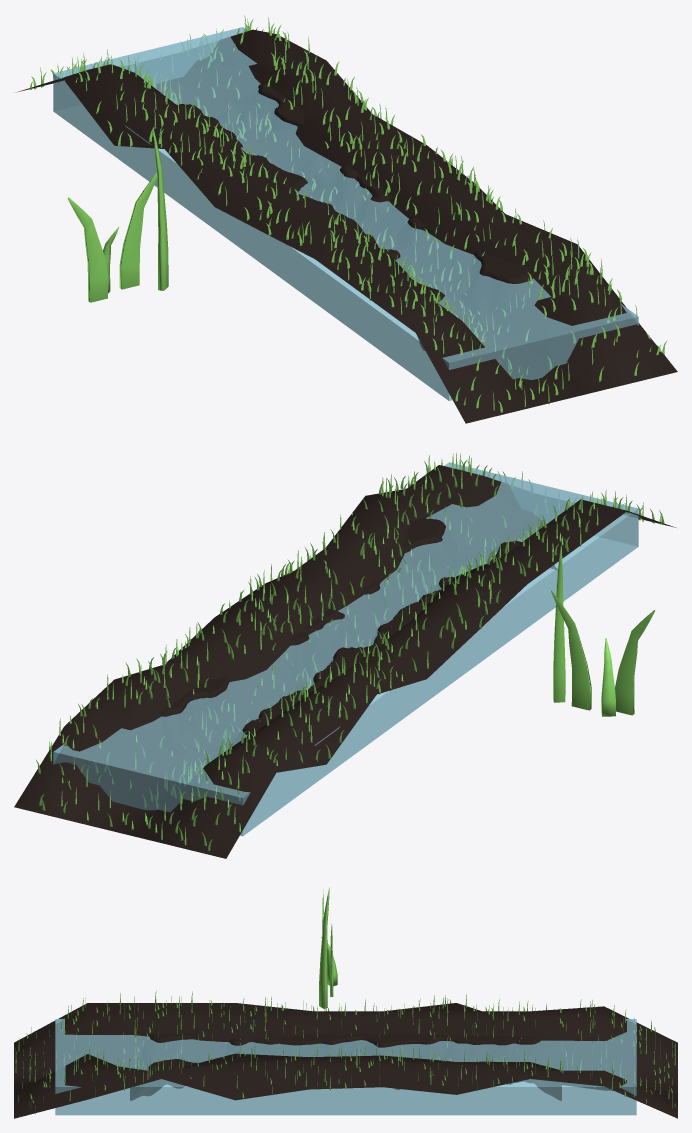
Rendered from river.glb.
3 views of the same model, one above another, from view 1: azimuth 30°, elevation 25°; view 2: azimuth 150°, elevation 25°; view 3: azimuth 270°, elevation 25° (orthographic). The views are drawn at different scales.
Visible parts, largest first — view 1: Landscape.004, Plane, Landscape.002, Cube, Cube.002, Cube.003; view 2: Landscape.004, Plane, Landscape.002, Cube, Cube.002, Cube.003, Cube.001; view 3: Landscape.004, Plane, Landscape.002, Cube.003.
Part boxes in pixels (bbox=[...]): Landscape.004: bbox=[17, 29, 677, 423]; Plane: bbox=[53, 27, 638, 400]; Landscape.002: bbox=[175, 82, 533, 350]; Cube: bbox=[119, 172, 157, 289]; Cube.002: bbox=[67, 197, 108, 302]; Cube.003: bbox=[152, 127, 168, 290]; Landscape.004: bbox=[14, 465, 676, 858]; Plane: bbox=[53, 462, 638, 836]; Landscape.002: bbox=[161, 518, 557, 769]; Cube: bbox=[551, 590, 591, 710]; Cube.002: bbox=[615, 610, 655, 715]; Cube.003: bbox=[553, 545, 565, 702]; Cube.001: bbox=[601, 638, 615, 716]; Landscape.004: bbox=[14, 1003, 677, 1118]; Plane: bbox=[55, 1019, 636, 1115]; Landscape.002: bbox=[130, 1033, 561, 1100]; Cube.003: bbox=[319, 887, 329, 1008].
Size of the model in its own units: 45.69 by 17.91 by 88.52.
